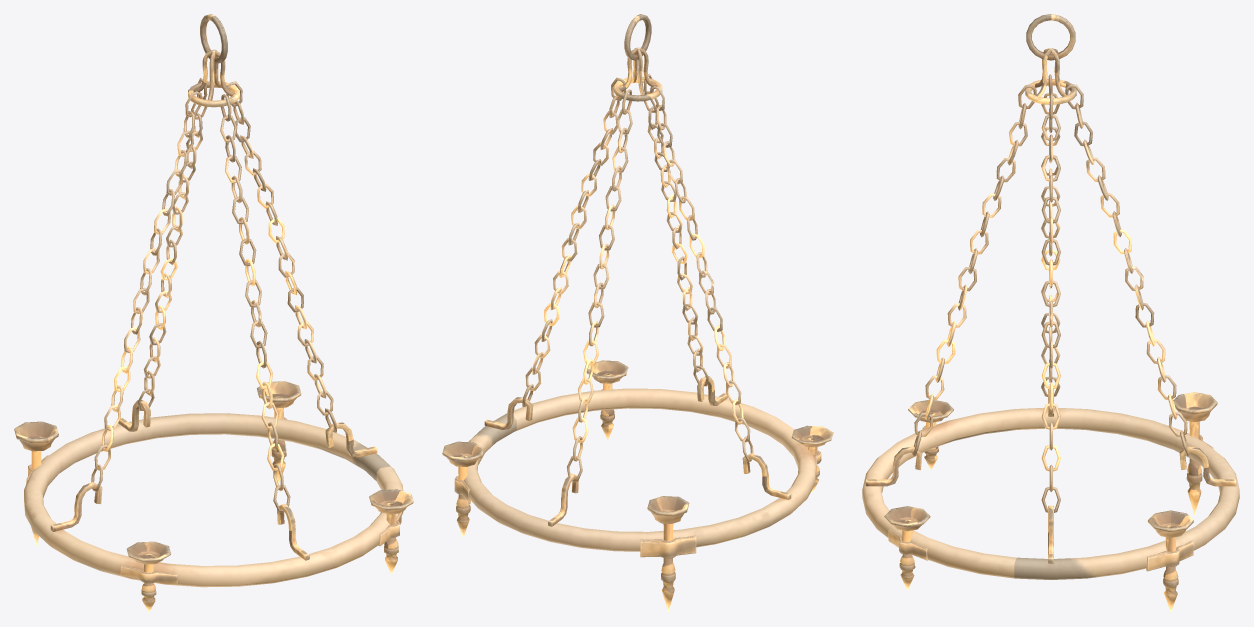
The model's file is SM_CandleHolder.fbx.
3 views of the same model, side by side, from view 1: azimuth 30°, elevation 25°; view 2: azimuth 150°, elevation 25°; view 3: azimuth 270°, elevation 25° (orthographic). The views are drawn at different scales.
Parts seen in each view (by area): view 1: SM_CandleHolder_LOD0; view 2: SM_CandleHolder_LOD0; view 3: SM_CandleHolder_LOD0.
Part boxes in pixels (<box>): SM_CandleHolder_LOD0: <box>14,14,413,612</box>; SM_CandleHolder_LOD0: <box>442,14,833,612</box>; SM_CandleHolder_LOD0: <box>862,14,1239,612</box>.
Bounding box in the file's own units: 190 × 190 × 307.
